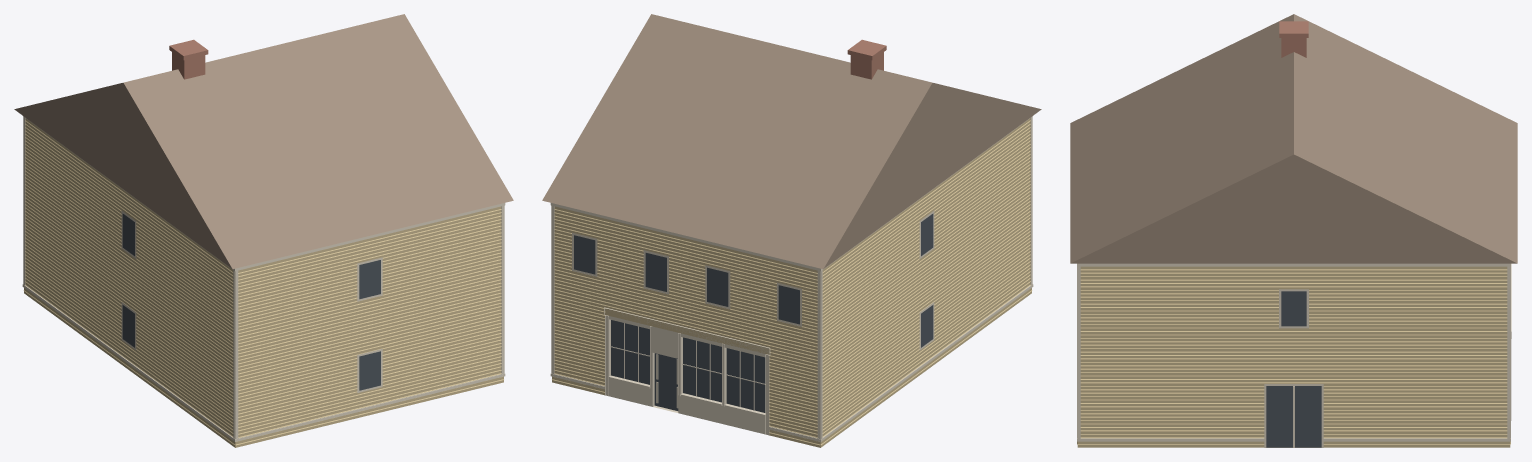
Rendered from recon_1835_north_c4_063__inferred_1835.glb.
3 views of the same model, side by side, from view 1: azimuth 30°, elevation 25°; view 2: azimuth 150°, elevation 25°; view 3: azimuth 270°, elevation 25° (orthographic). The views are drawn at different scales.
Visible parts, largest first — view 1: recon_1835_north_c4_063__inferred_1835; view 2: recon_1835_north_c4_063__inferred_1835; view 3: recon_1835_north_c4_063__inferred_1835.
Boxes of the visible parts, <box> form: recon_1835_north_c4_063__inferred_1835: <box>14,14,513,447</box>; recon_1835_north_c4_063__inferred_1835: <box>542,14,1041,447</box>; recon_1835_north_c4_063__inferred_1835: <box>1070,14,1517,447</box>.
Bounding box in the file's own units: 11.16 × 11.69 × 15.02.
